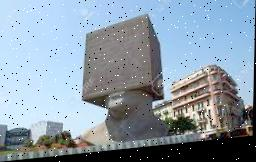cube: (83, 18, 168, 106)
